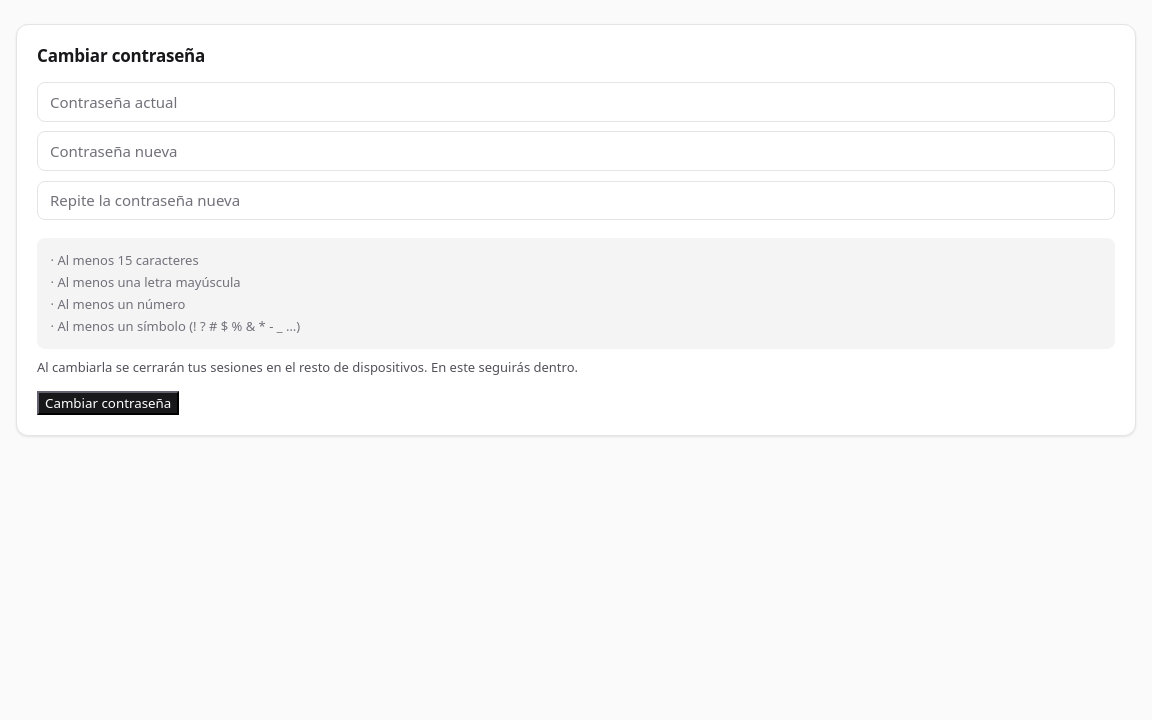
Test case: validación antes de gastar una petición › rechaza repetir la contraseña actual
In the password field labelled "Contraseña actual": (576,102) [37,82,1115,122], type "Café con leche y 2 tostadas!"
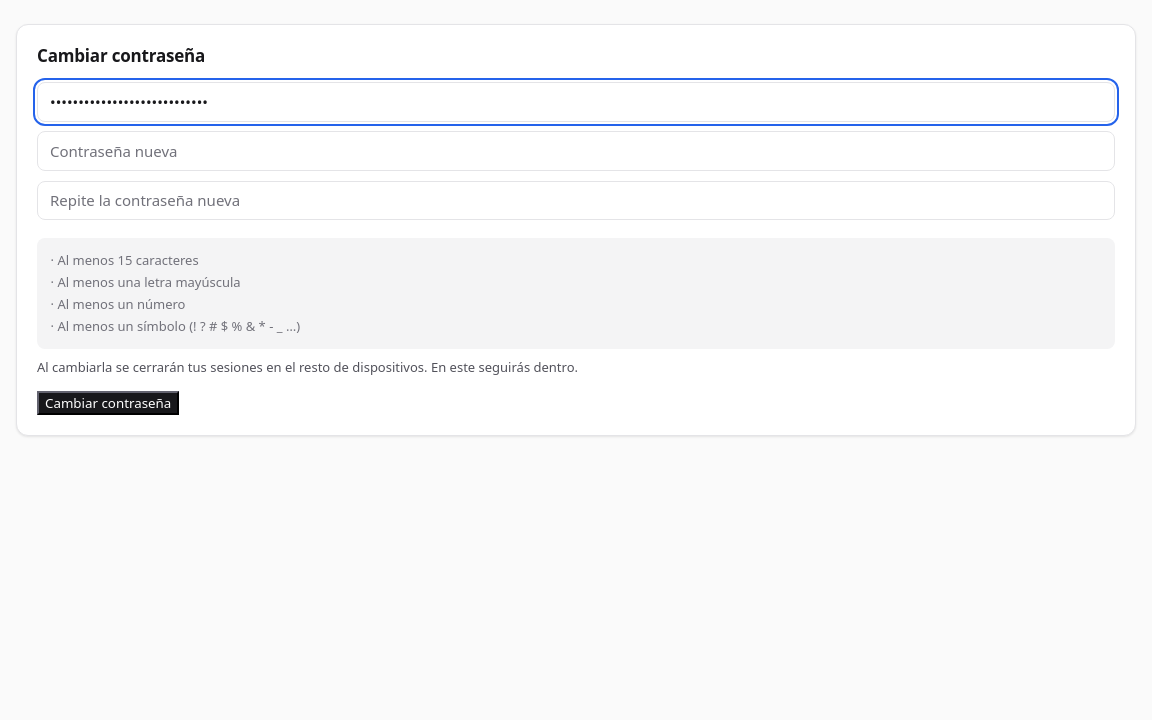
In the password field labelled "Contraseña nueva": (576,151) [37,131,1115,171], type "Café con leche y 2 tostadas!"
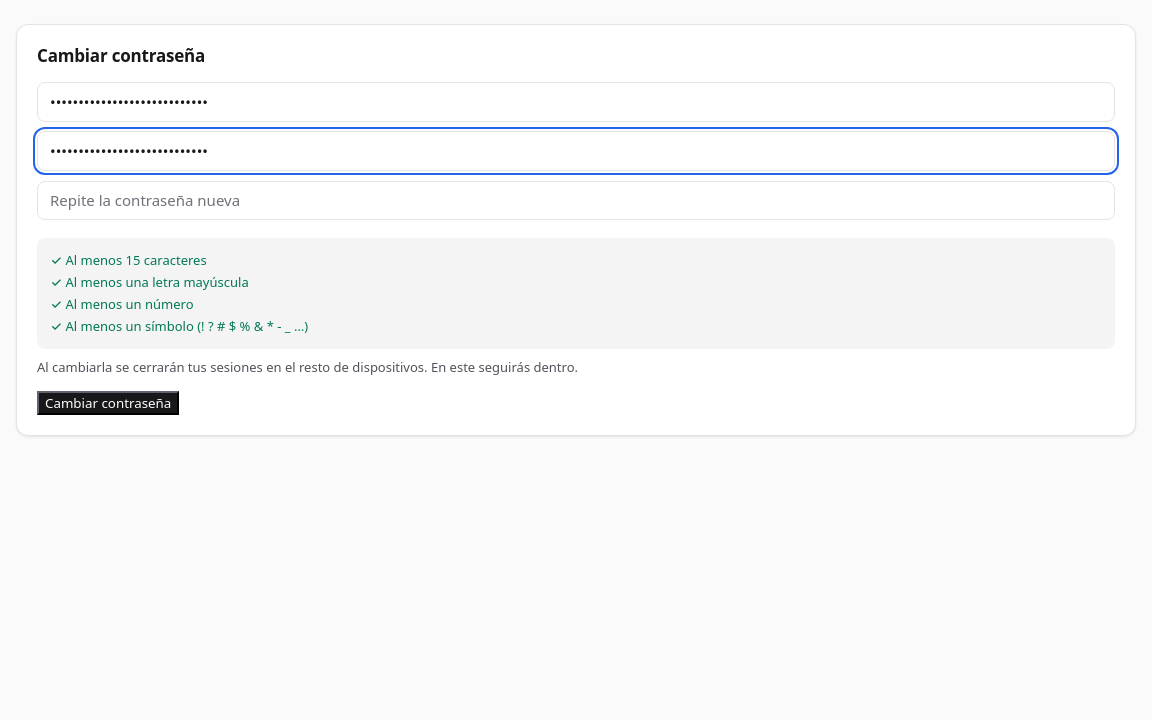
In the password field labelled "Repite la contraseña nueva": (576,200) [37,181,1115,220], type "Café con leche y 2 tostadas!"
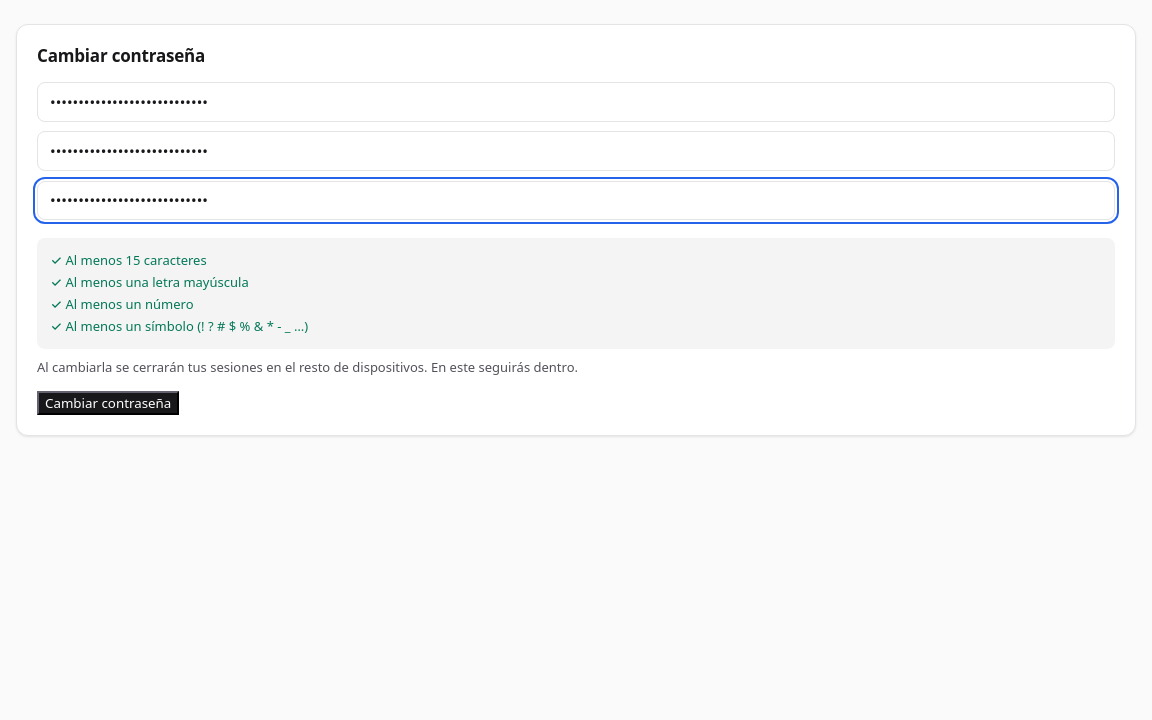
Click the button "Cambiar contraseña": (108,403) [37,391,179,415]
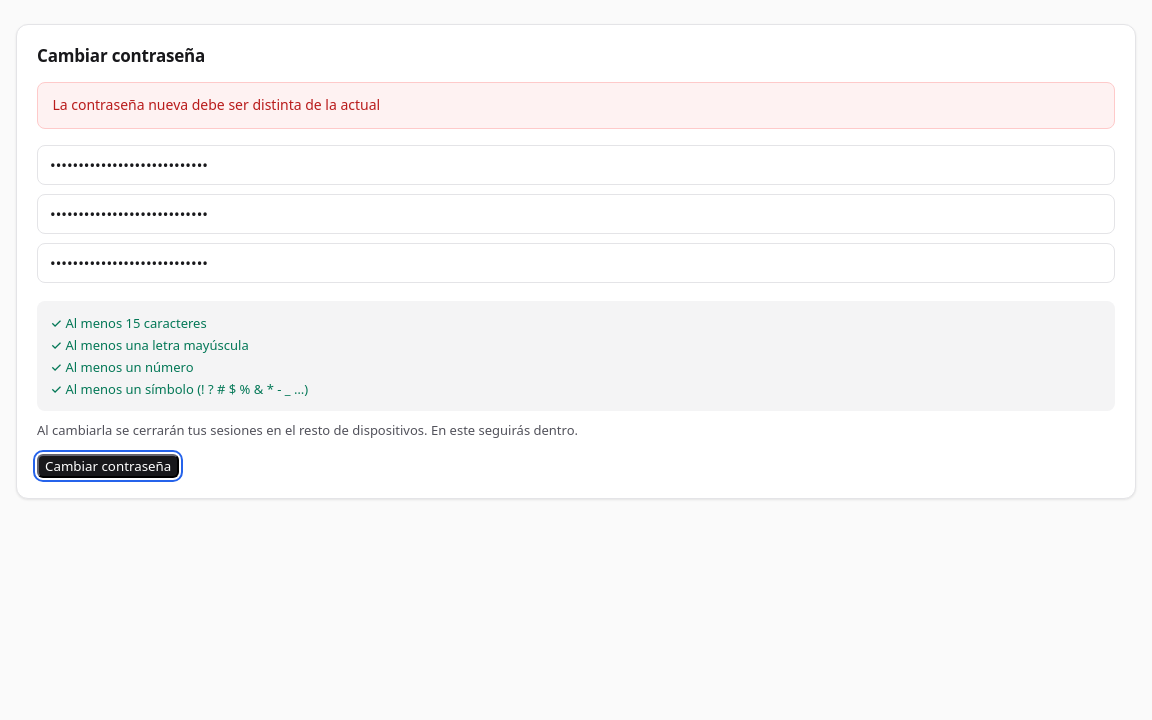
Expected: the text "La contraseña nueva debe ser distinta de la actual" is shown, [37,82,1115,129]
